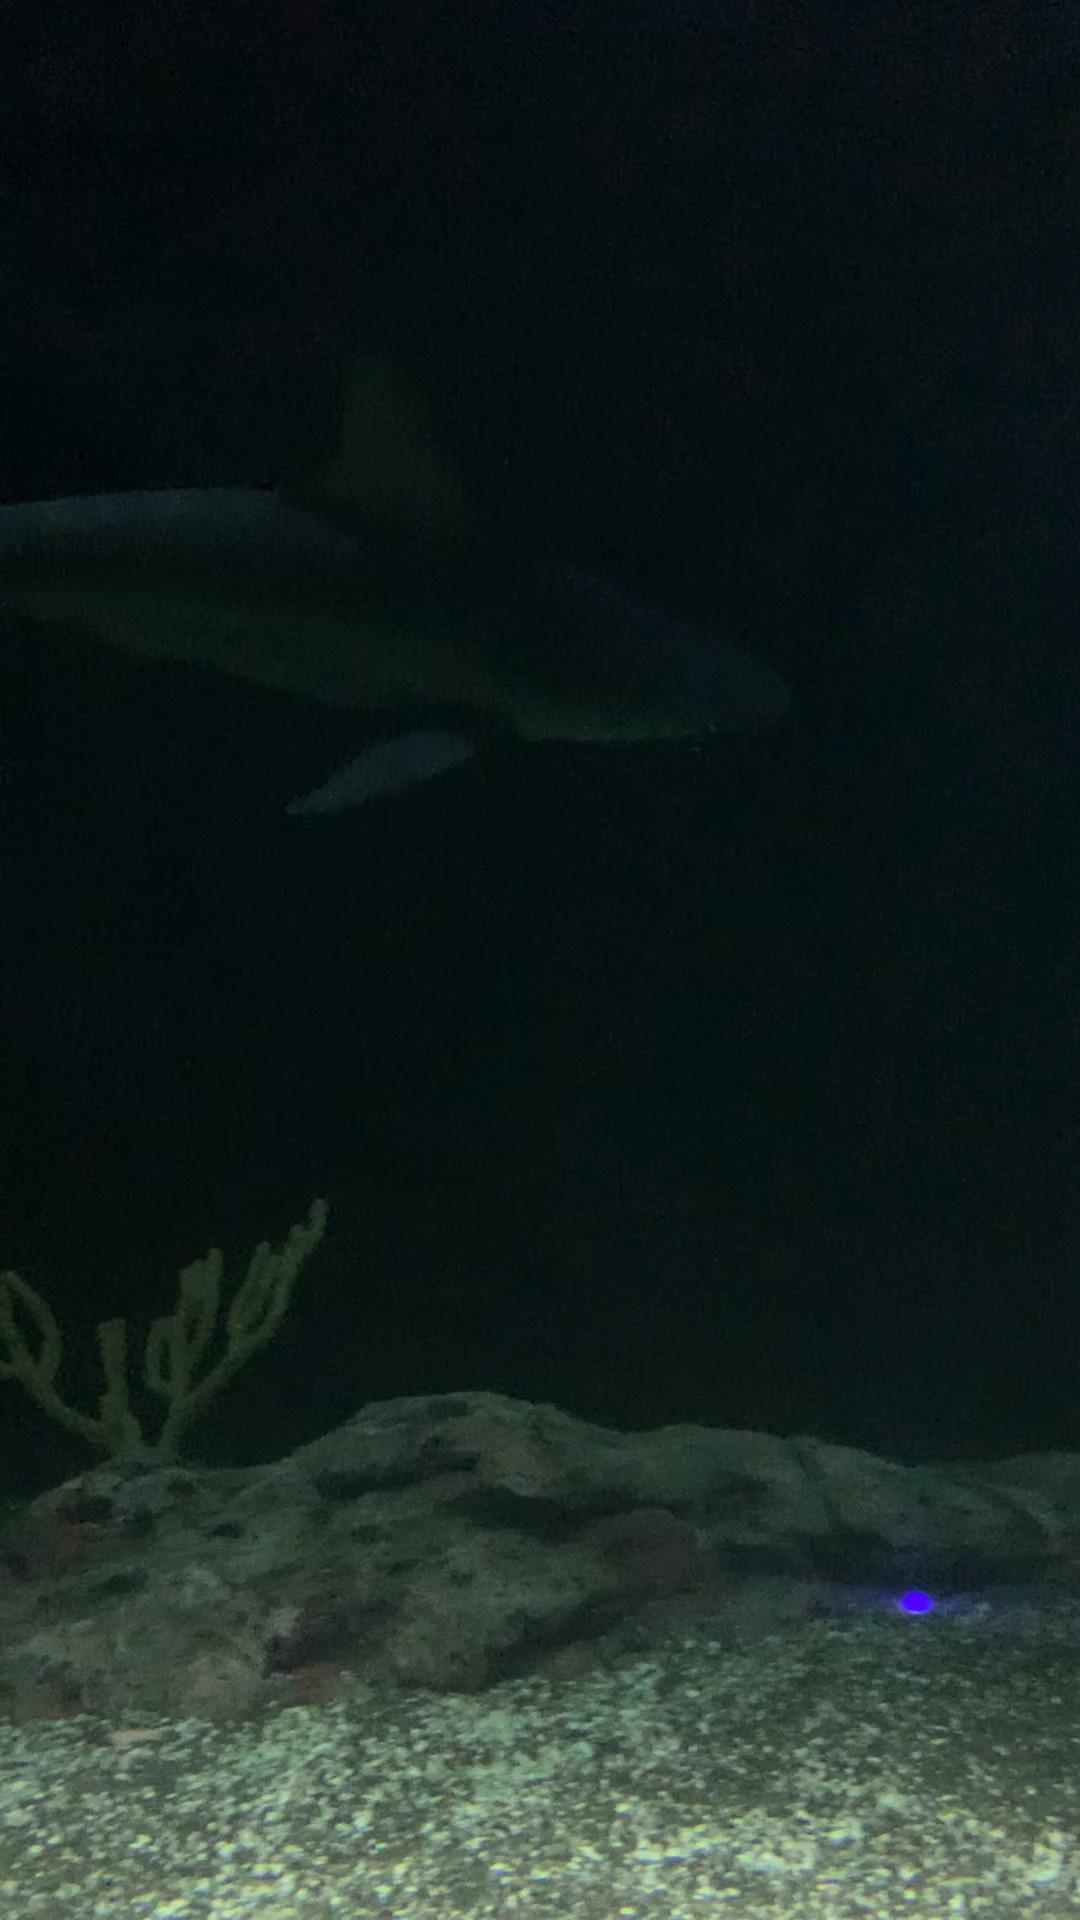shark: (0, 338, 796, 815)
